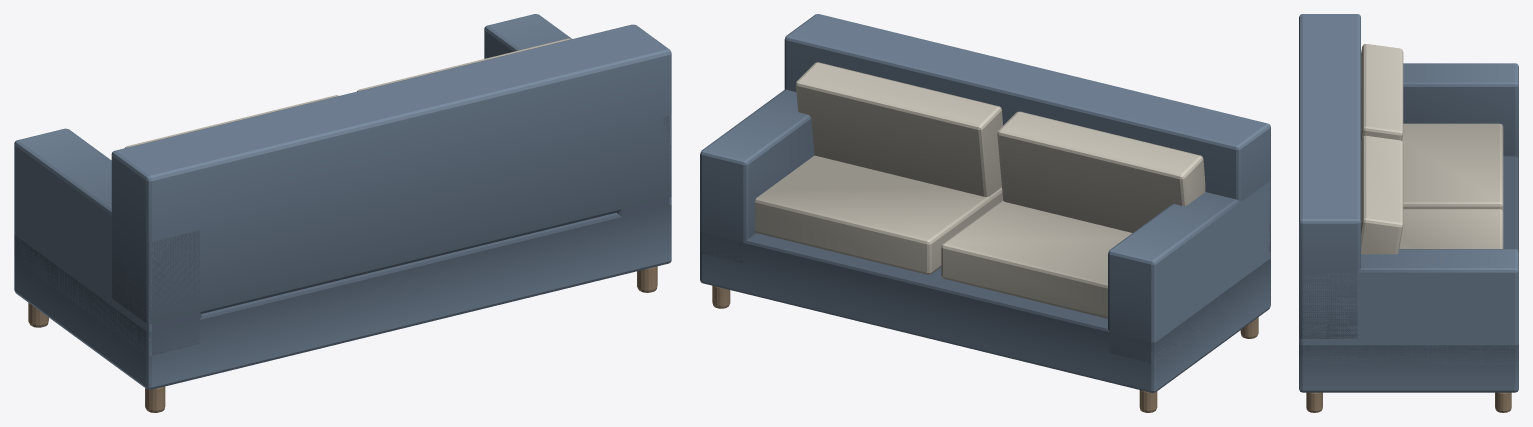
The model's file is furn_sofa__navy.glb.
3 views of the same model, side by side, from view 1: azimuth 30°, elevation 25°; view 2: azimuth 150°, elevation 25°; view 3: azimuth 270°, elevation 25° (orthographic). The views are drawn at different scales.
Bounding box in the file's own units: 1.9 × 0.84 × 0.85.
